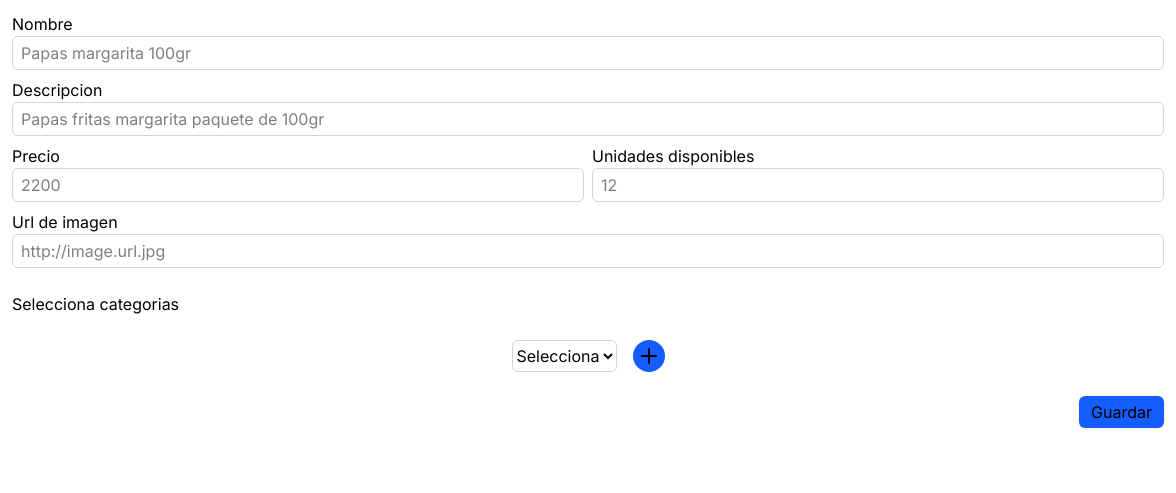
Create new product component › should advice the user that stock and price should be a number bigger or equals to cero
Type "-123" into the field with test id "input-stock" at (878, 185), box 592,168 -> 1164,202
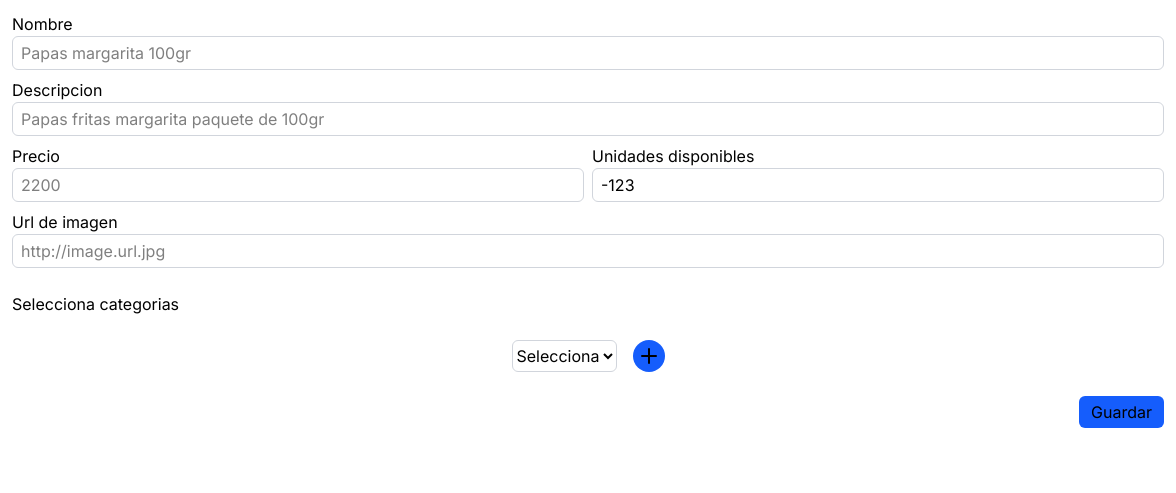
Type "-321" into the field with test id "input-price" at (298, 185), box 12,168 -> 584,202
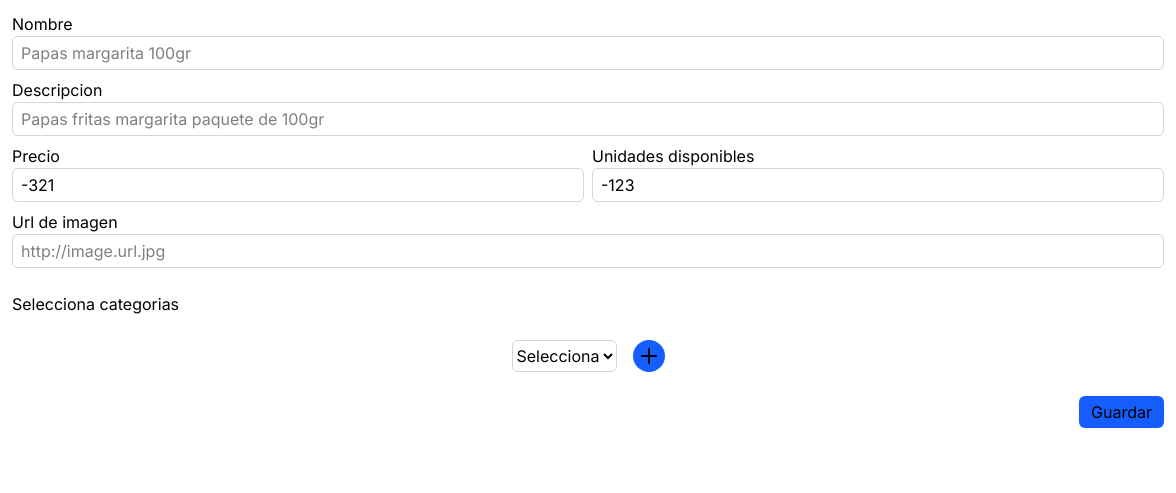
Submit the form with test id "form"
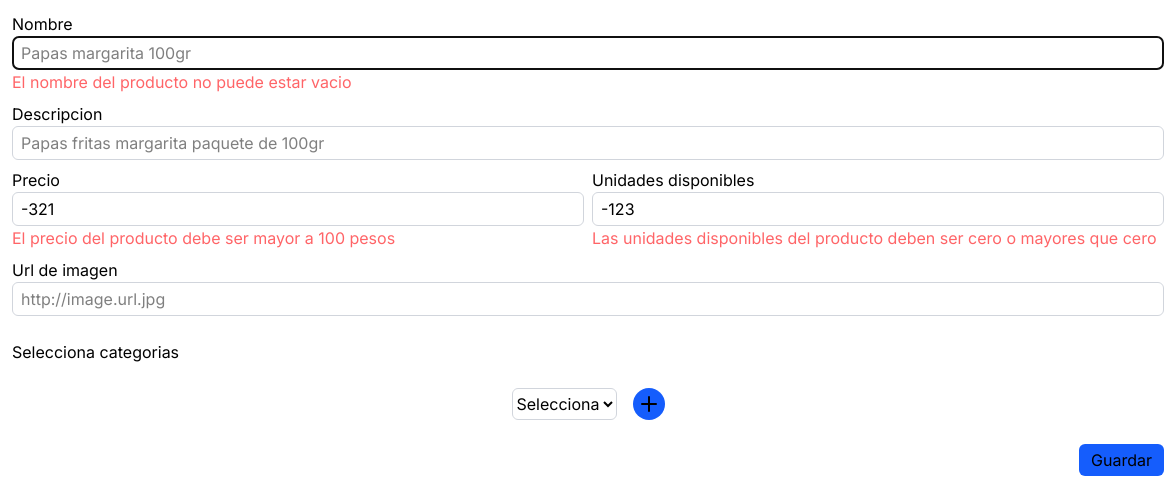
expect the text with test id "input-error-stock" is shown: met, box 592,226 -> 1164,250
expect the text "El precio del producto debe ser mayor a 100 pesos" is shown: met, box 12,228 -> 395,248
